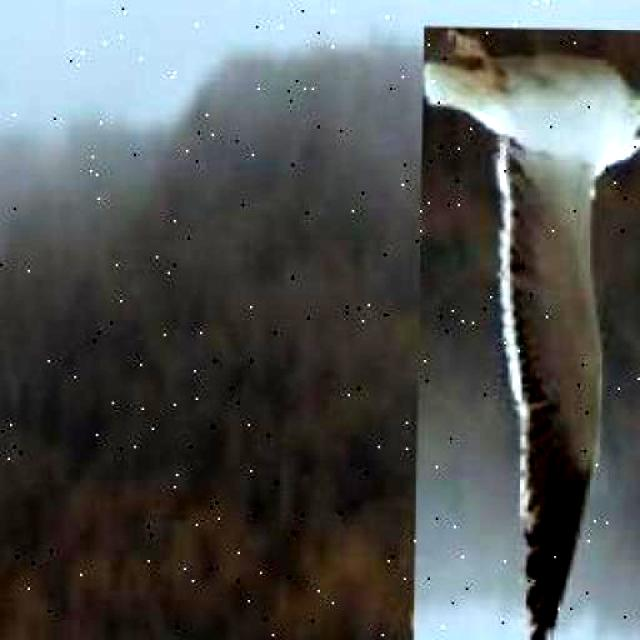airplane: (411, 26, 640, 640)
